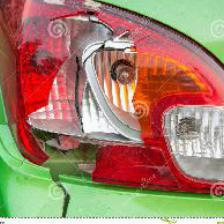tail_lamp: (9, 6, 183, 187)
